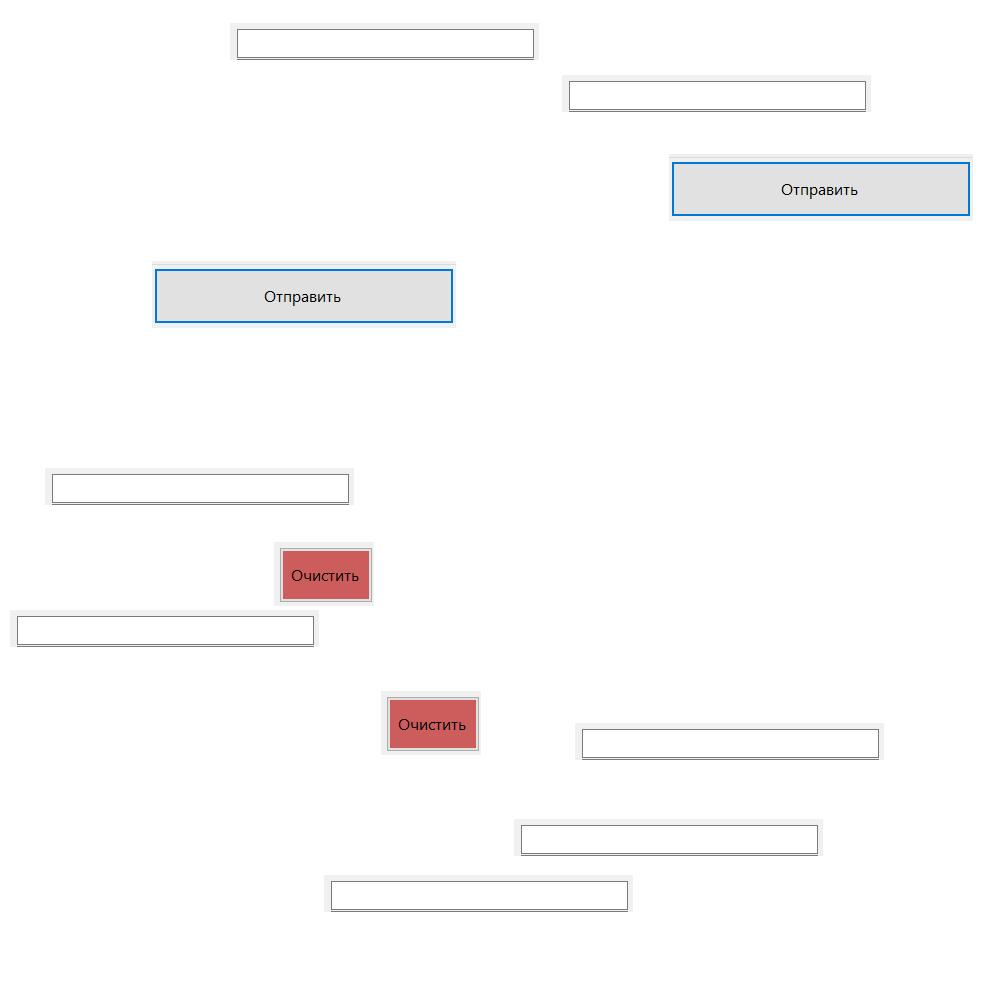Button: (669, 154, 973, 221), (152, 261, 456, 328), (274, 542, 374, 606), (381, 691, 481, 755)
EditText-: (45, 468, 354, 505), (514, 819, 823, 856), (10, 610, 319, 647), (324, 875, 633, 912), (562, 75, 871, 112), (230, 23, 539, 60), (575, 723, 884, 760)
